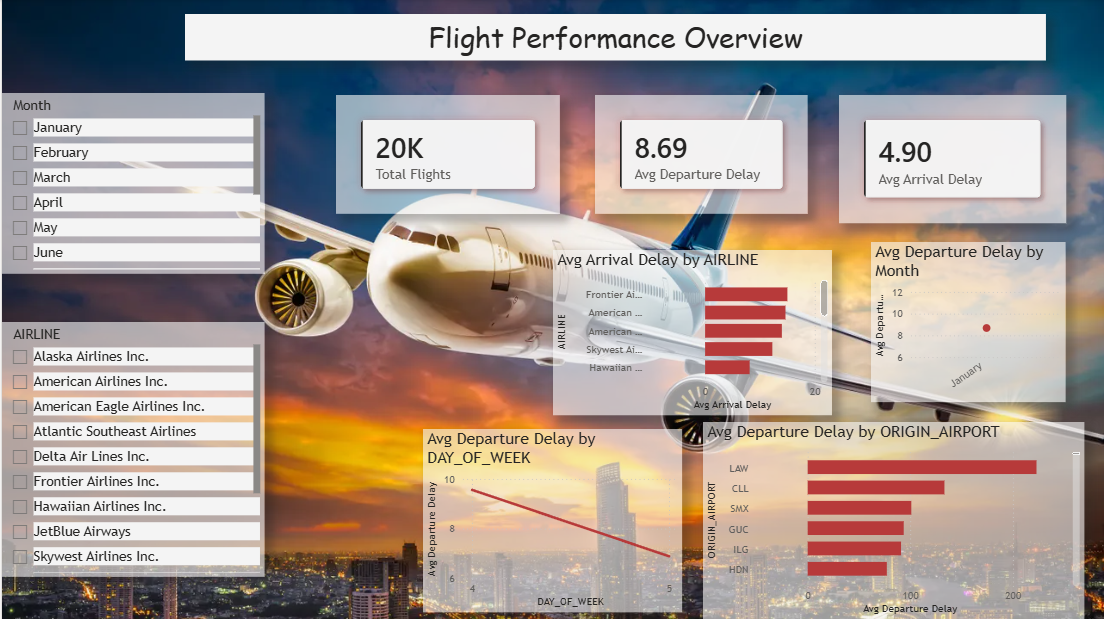

The dashboard page shown, as its layout file describes it:
{"tool":"powerbi","page":{"name":"Page 1","canvas":[1280,720],"ordinal":0},"visuals":[{"type":"cardVisual","fields":{"Data":["fly_emirates_flight flights.Total Flights"]},"box":[387.9,111.5,260.2,138.2],"z":0},{"type":"cardVisual","fields":{"Data":["fly_emirates_flight airlines.Avg Departure Delay"]},"box":[688.8,111.5,247.4,138.2],"z":1000},{"type":"cardVisual","fields":{"Data":["fly_emirates_flight airlines.Avg Arrival Delay"]},"box":[972.2,111.5,263.7,148.7],"z":2000},{"type":"clusteredBarChart","fields":{"Category":["fly_emirates_flight airlines.AIRLINE"],"Y":["fly_emirates_flight airlines.Avg Arrival Delay"]},"box":[640,291.5,324.1,191.7],"z":3000},{"type":"lineChart","fields":{"Y":["fly_emirates_flight airlines.Avg Departure Delay"],"Category":["fly_emirates_flight flights.FLIGHT_DATE.Variation.Date Hierarchy.Month"]},"box":[1009.4,282.3,226.5,185.8],"z":4000},{"type":"lineChart","fields":{"Category":["fly_emirates_flight flights.DAY_OF_WEEK"],"Y":["fly_emirates_flight airlines.Avg Departure Delay"]},"box":[489,499.5,300.8,212.6],"z":5000},{"type":"barChart","fields":{"Category":["fly_emirates_flight flights.ORIGIN_AIRPORT"],"Y":["fly_emirates_flight airlines.Avg Departure Delay"]},"box":[814.2,491.3,442.5,228.8],"z":6000},{"type":"slicer","fields":{"Values":["fly_emirates_flight flights.FLIGHT_DATE.Variation.Date Hierarchy.Month"]},"box":[0,109.2,305.5,210.2],"z":7000},{"type":"slicer","fields":{"Values":["fly_emirates_flight airlines.AIRLINE"]},"box":[0,375.2,305.5,296.2],"z":8000},{"type":"textbox","box":[212.5,18,999.7,53.9],"z":9000}]}

Visuals, with their boxes in screenshot pixels (x1, y1, x2, y2), scaled from the page's 1280x720 canvas onto the 1104x619 screenshot:
cardVisual - fly_emirates_flight flights.Total Flights: box=[335, 96, 559, 215]
cardVisual - fly_emirates_flight airlines.Avg Departure Delay: box=[594, 96, 807, 215]
cardVisual - fly_emirates_flight airlines.Avg Arrival Delay: box=[839, 96, 1066, 224]
clusteredBarChart - fly_emirates_flight airlines.AIRLINE x fly_emirates_flight airlines.Avg Arrival Delay: box=[552, 251, 832, 415]
lineChart - fly_emirates_flight airlines.Avg Departure Delay x fly_emirates_flight flights.FLIGHT_DATE.Variation.Date Hierarchy.Month: box=[871, 243, 1066, 402]
lineChart - fly_emirates_flight flights.DAY_OF_WEEK x fly_emirates_flight airlines.Avg Departure Delay: box=[422, 429, 681, 612]
barChart - fly_emirates_flight flights.ORIGIN_AIRPORT x fly_emirates_flight airlines.Avg Departure Delay: box=[702, 422, 1084, 618]
slicer - fly_emirates_flight flights.FLIGHT_DATE.Variation.Date Hierarchy.Month: box=[0, 94, 263, 275]
slicer - fly_emirates_flight airlines.AIRLINE: box=[0, 323, 263, 577]
textbox: box=[183, 15, 1046, 62]
